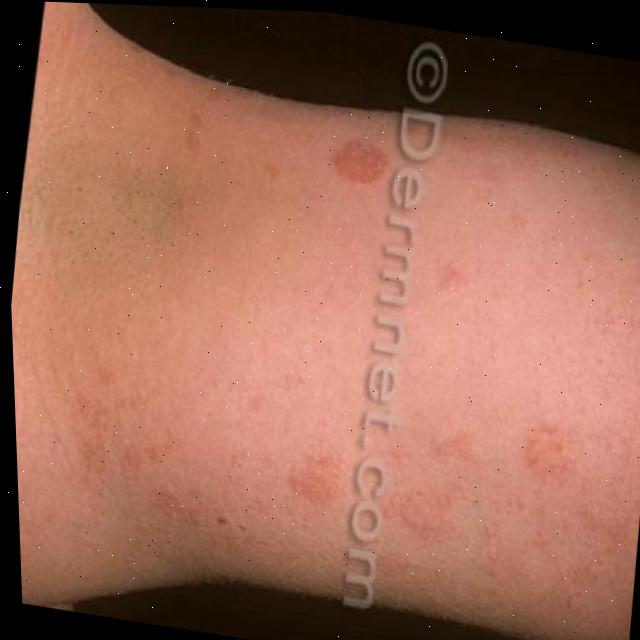Eczema: (584, 381, 640, 592), (506, 418, 587, 479), (281, 430, 337, 505), (328, 140, 398, 197)
